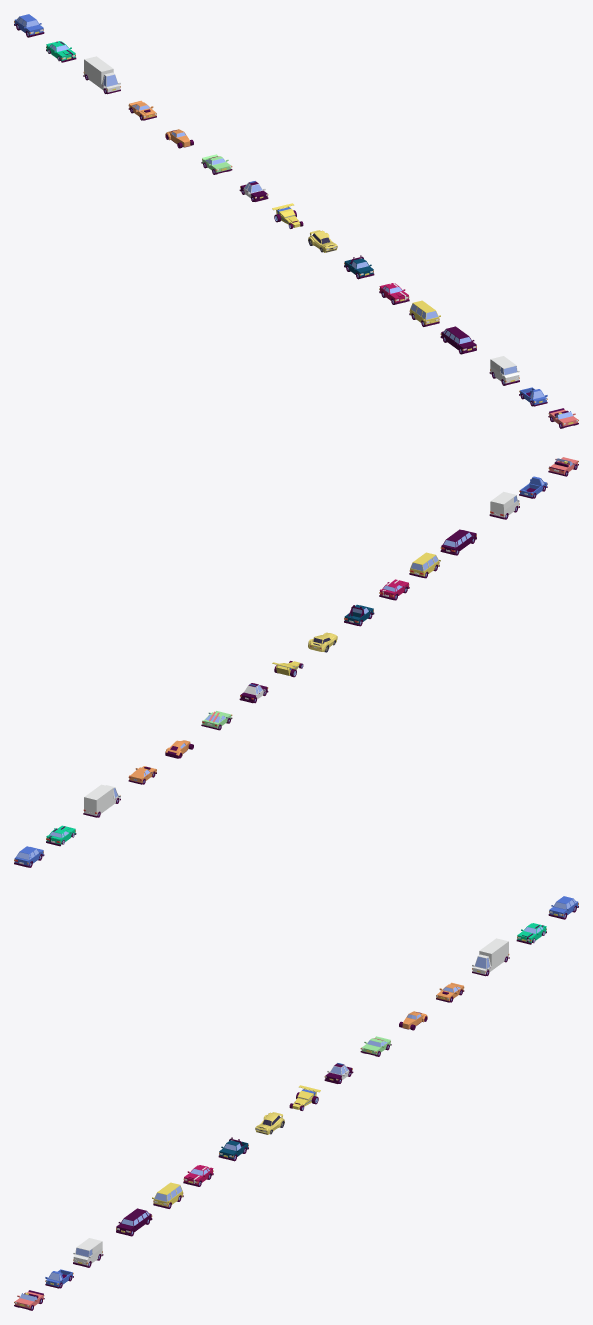
Rendered from cars_big_set.glb.
3 renders of one model, top to bottom at view 1: azimuth 30°, elevation 25°; view 2: azimuth 150°, elevation 25°; view 3: azimuth 330°, elevation 25°, orthographic.
Visible parts, largest first — view 1: car_removals, car_breadvan, car_limo, car_minivan; view 2: car_removals, car_breadvan, car_limo; view 3: car_removals, car_breadvan, car_limo, car_minivan.
Part boxes in pixels (x1,y1,x2,y2): car_removals: (83,56,120,94); car_breadvan: (489,356,519,385); car_limo: (440,326,476,353); car_minivan: (409,300,440,326); car_removals: (83,784,120,817); car_breadvan: (489,491,519,519); car_limo: (440,529,476,555); car_removals: (472,938,509,976); car_breadvan: (73,1238,103,1267); car_limo: (116,1208,152,1235); car_minivan: (152,1182,183,1208).
Bounding box in the file's own units: 1.63 × 1.43 × 74.54.
Materials: 3 (2 with a texture image).
